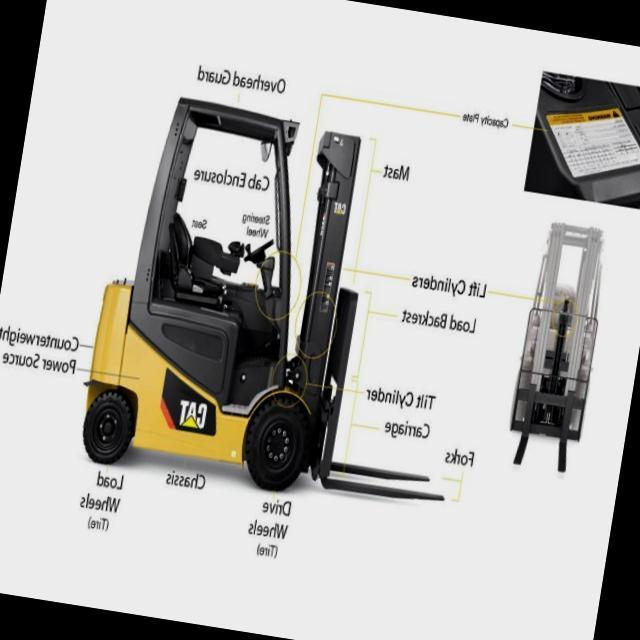forklift: (71, 49, 398, 504)
